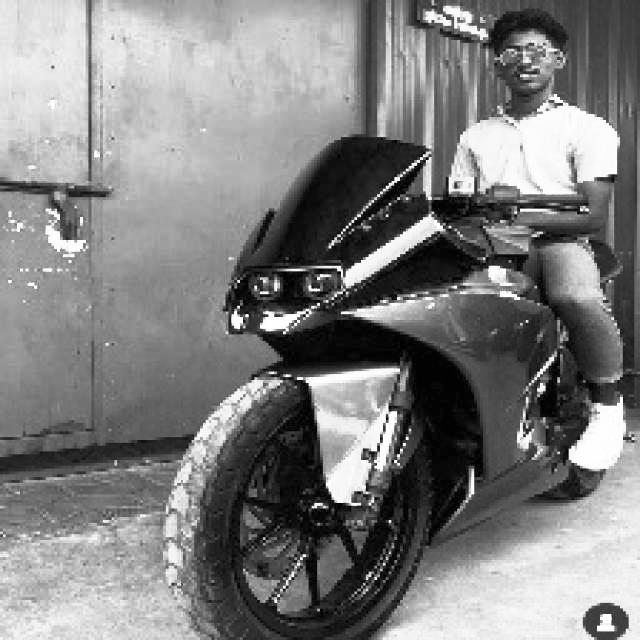Bike: (175, 143, 565, 639)
